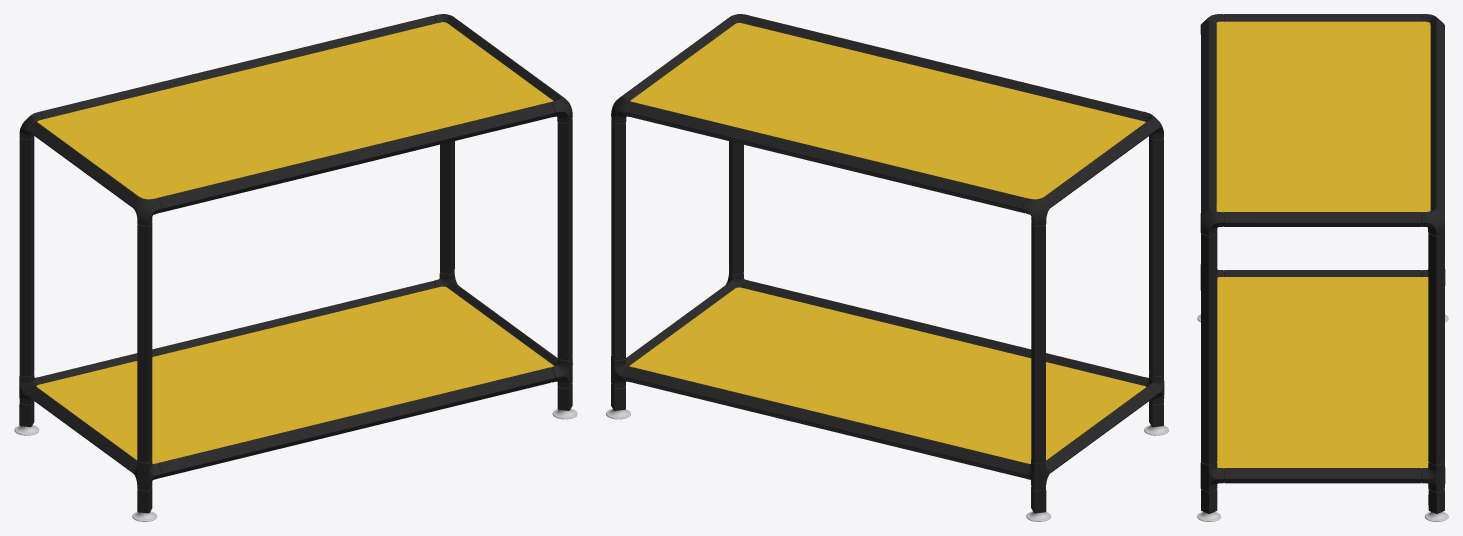
The picture shows the model from 3 angles, left to right: view 1: azimuth 30°, elevation 25°; view 2: azimuth 150°, elevation 25°; view 3: azimuth 270°, elevation 25°; orthographic projection. The views are drawn at different scales.
Parts seen in each view (by area): view 1: 729x329x420; view 2: 729x329x420; view 3: 729x329x420.
Boxes of the visible parts, box(x1,y1,x2,y2) form: 729x329x420: box(14, 14, 577, 521); 729x329x420: box(606, 14, 1168, 521); 729x329x420: box(1197, 14, 1448, 521).
Bounding box in the file's own units: 0.8189 × 0.5591 × 0.4181.
